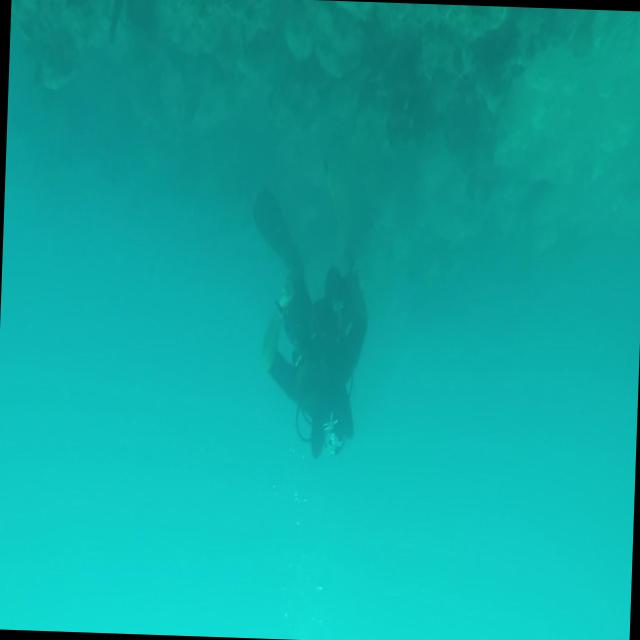human: (244, 188, 373, 462)
